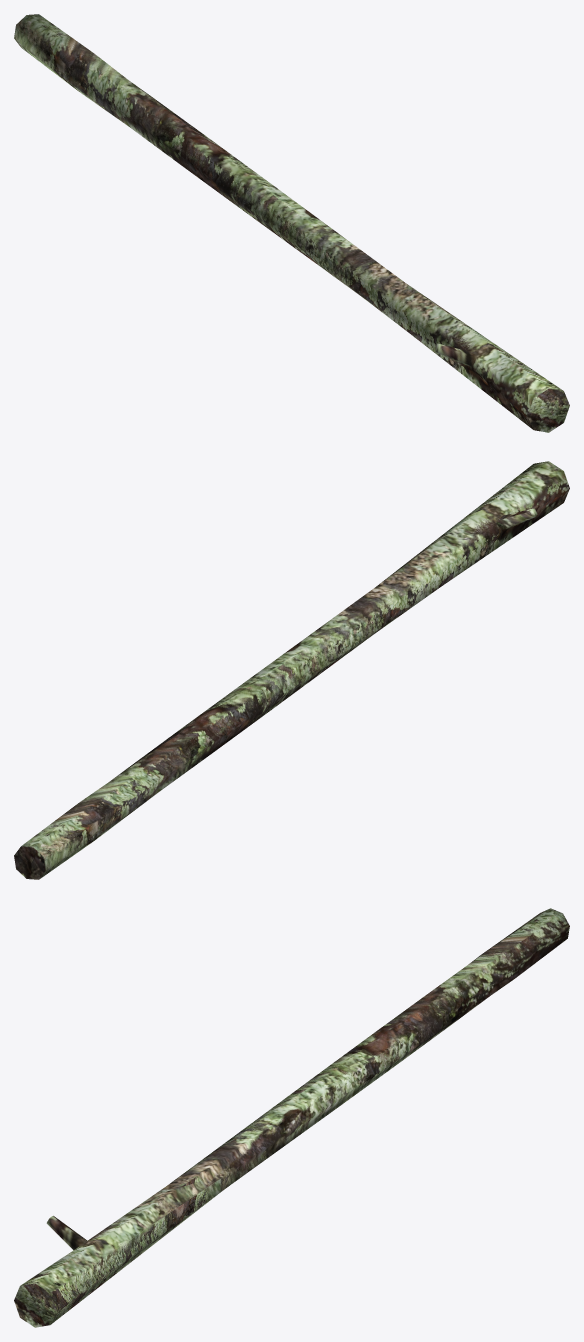
Rendered from DryStick.fbx.
The picture shows the model from 3 angles, top to bottom: view 1: azimuth 30°, elevation 25°; view 2: azimuth 150°, elevation 25°; view 3: azimuth 330°, elevation 25°; orthographic projection.
Visible parts, largest first — view 1: DryStick; view 2: DryStick; view 3: DryStick.
Part boxes in pixels (x1,y1,x2,y2): DryStick: (14,14,569,432); DryStick: (14,461,569,879); DryStick: (14,908,569,1327).
Size of the model in its own units: 0.0644 by 0.0467 by 0.8123.
